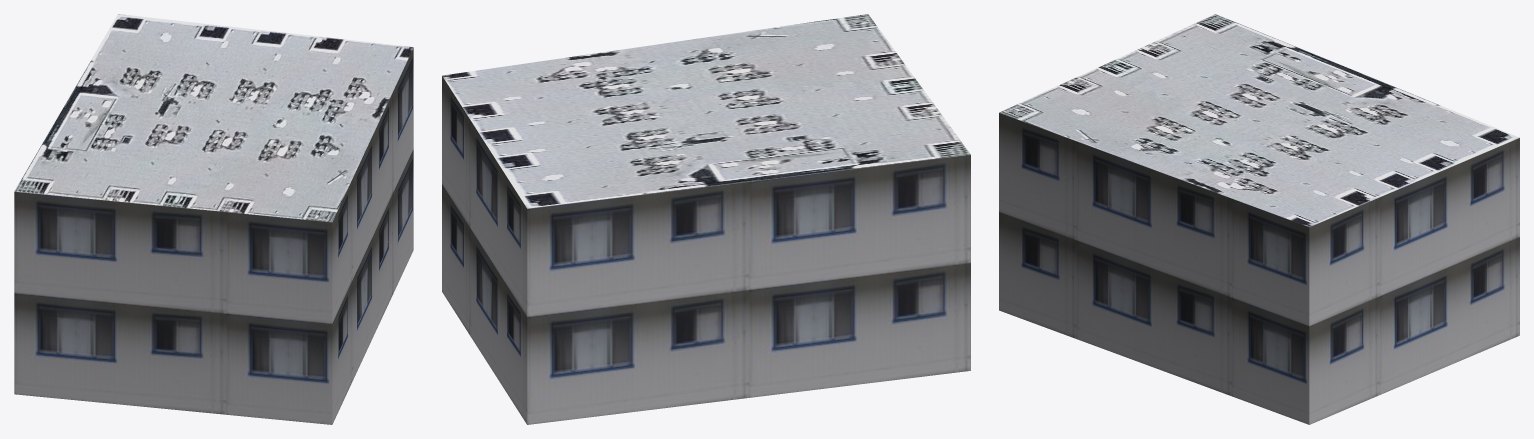
File: ResTex__1797.fbx
The picture shows the model from 3 angles, left to right: view 1: azimuth 30°, elevation 25°; view 2: azimuth 150°, elevation 25°; view 3: azimuth 270°, elevation 25°; orthographic projection. The views are drawn at different scales.
Visible parts, largest first — view 1: CityEngineMaterial_9_m, CityEngineMaterial_4_m; view 2: CityEngineMaterial_9_m, CityEngineMaterial_4_m; view 3: CityEngineMaterial_9_m, CityEngineMaterial_4_m.
Part boxes in pixels (left/top/right/bottom): CityEngineMaterial_9_m: left=14, top=48, right=413, bottom=424; CityEngineMaterial_4_m: left=14, top=14, right=413, bottom=221; CityEngineMaterial_9_m: left=442, top=76, right=970, bottom=424; CityEngineMaterial_4_m: left=442, top=14, right=970, bottom=208; CityEngineMaterial_9_m: left=999, top=112, right=1519, bottom=424; CityEngineMaterial_4_m: left=999, top=14, right=1519, bottom=226.
Size of the model in its own units: 13.86 by 6 by 14.32.
2 materials, 2 textured.
